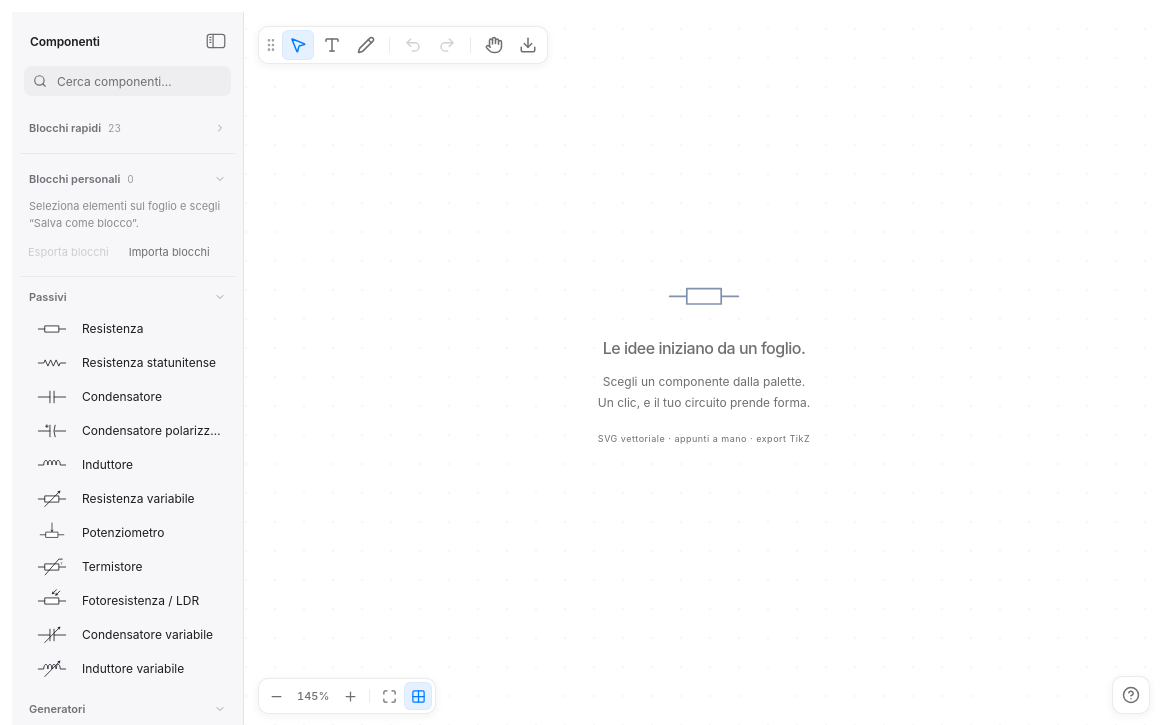
persistent resizable component sidebar › ignores malformed preferences and tolerates unavailable storage
The width and height of the screenshot is (1176, 725).
Click the button named "Nascondi componenti" at (216, 41), box x1=201 y1=26 x2=231 y2=56
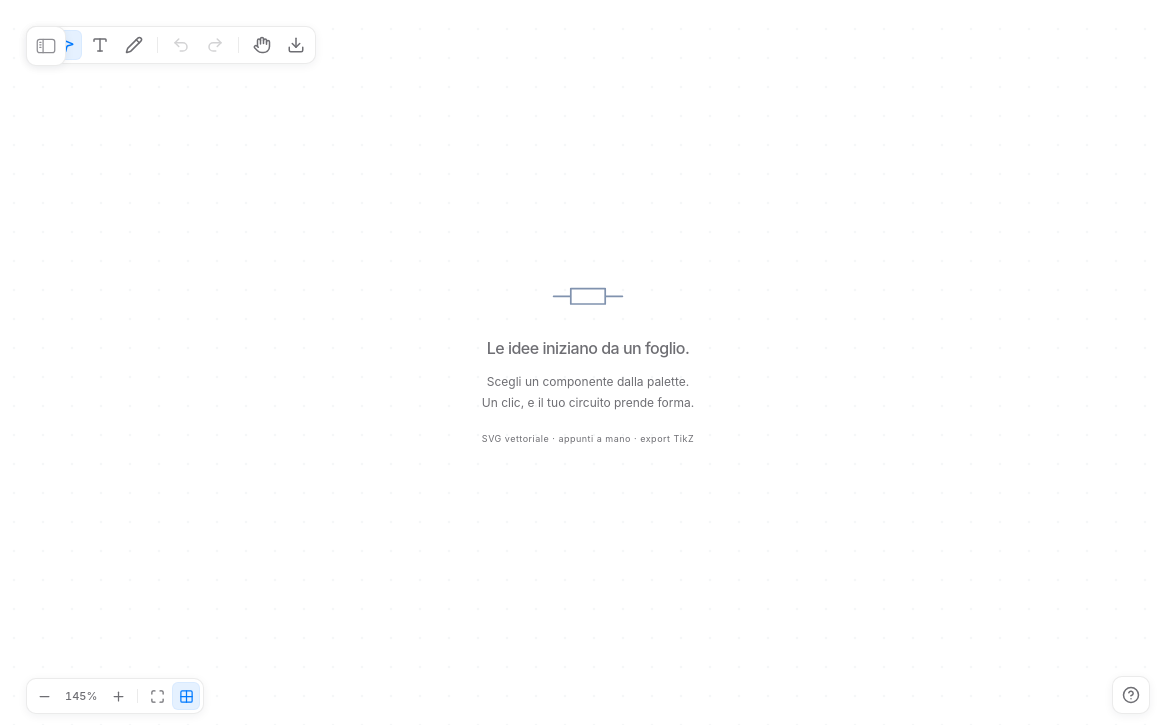
expect the button named "Mostra componenti" is shown: met, box x1=26 y1=26 x2=66 y2=66
